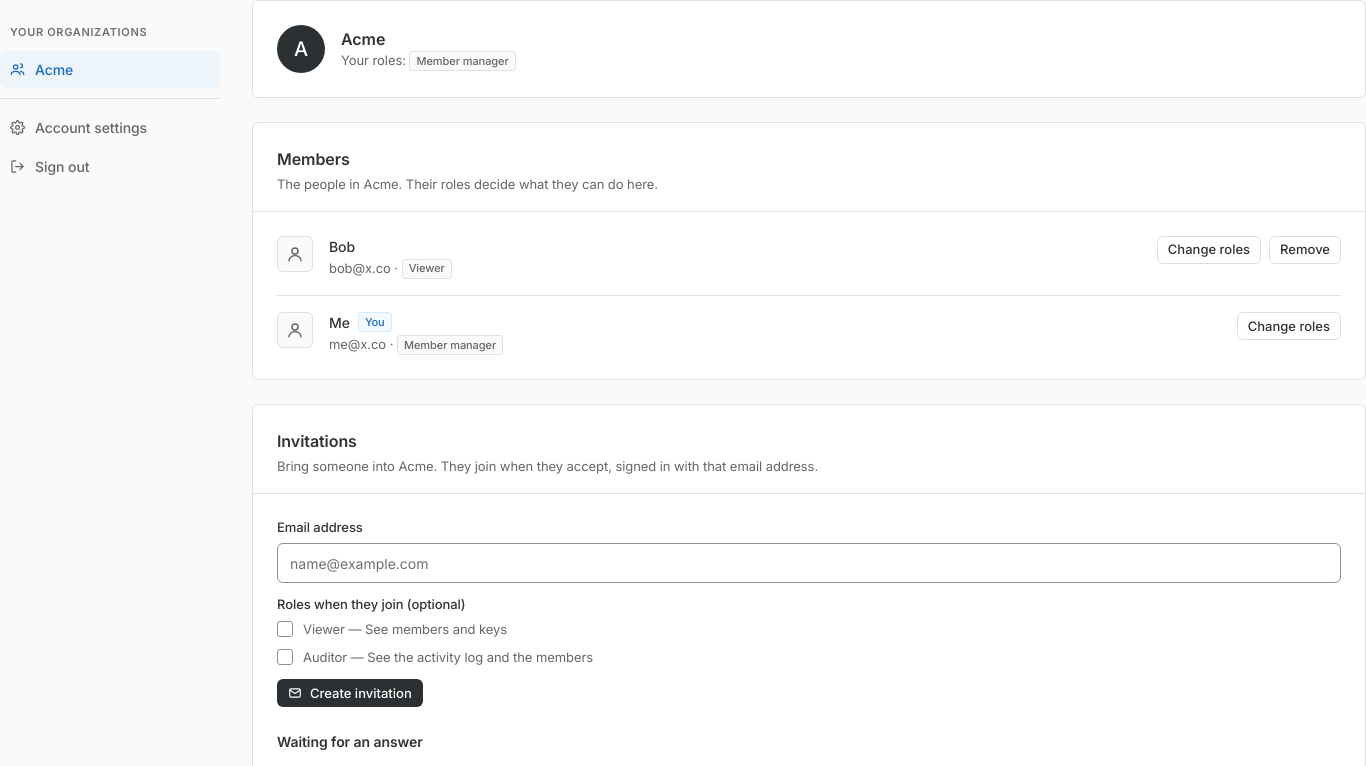
Test: AccountView › shows the one-time invitation link with a copy button
Expected: the text "Bob" is shown, [329,238,355,254]
Type "new@x.co" into the field labelled "Email address" at [809, 563], box [277,543,1341,583]
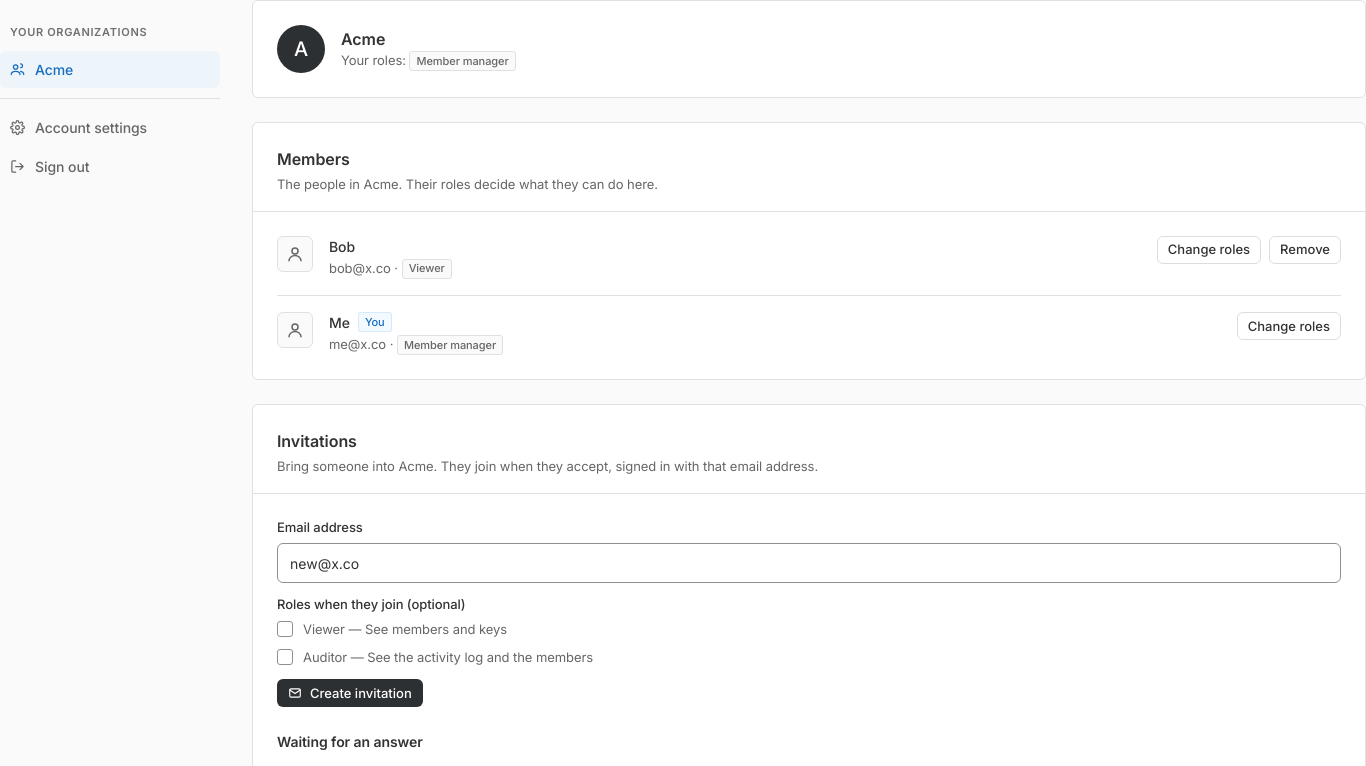
Expected: the text "Viewer" is shown, [303,621,345,637]
Click the text "Viewer" at [405, 629], box [303,619,507,639]
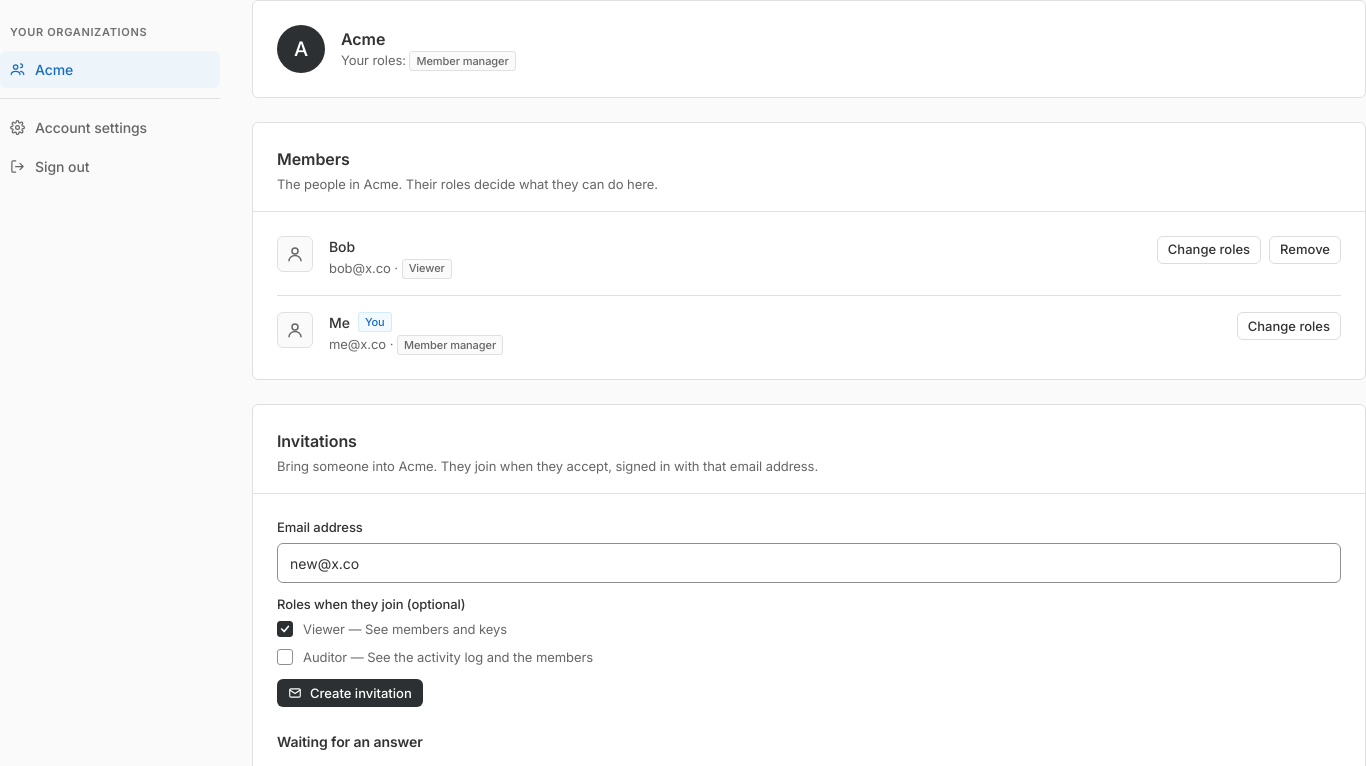
Click the button "Create invitation" at [350, 693], box [277,679,423,707]
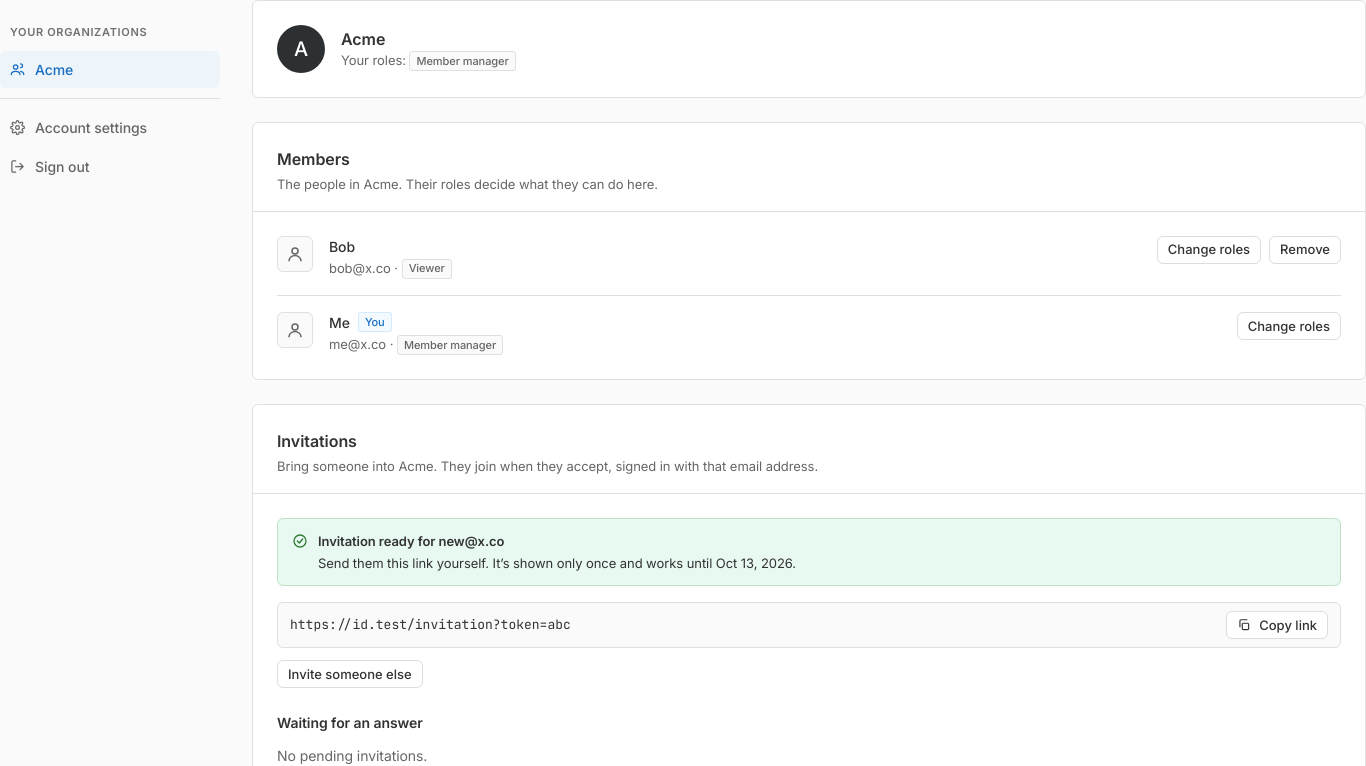
Expected: the text "https://id.test/invitation?token=abc" is shown, [290,616,571,633]
Expected: the button "Copy link" is shown, [1226,611,1328,639]
Expected: the text "shown only once" is shown, [318,555,616,571]
